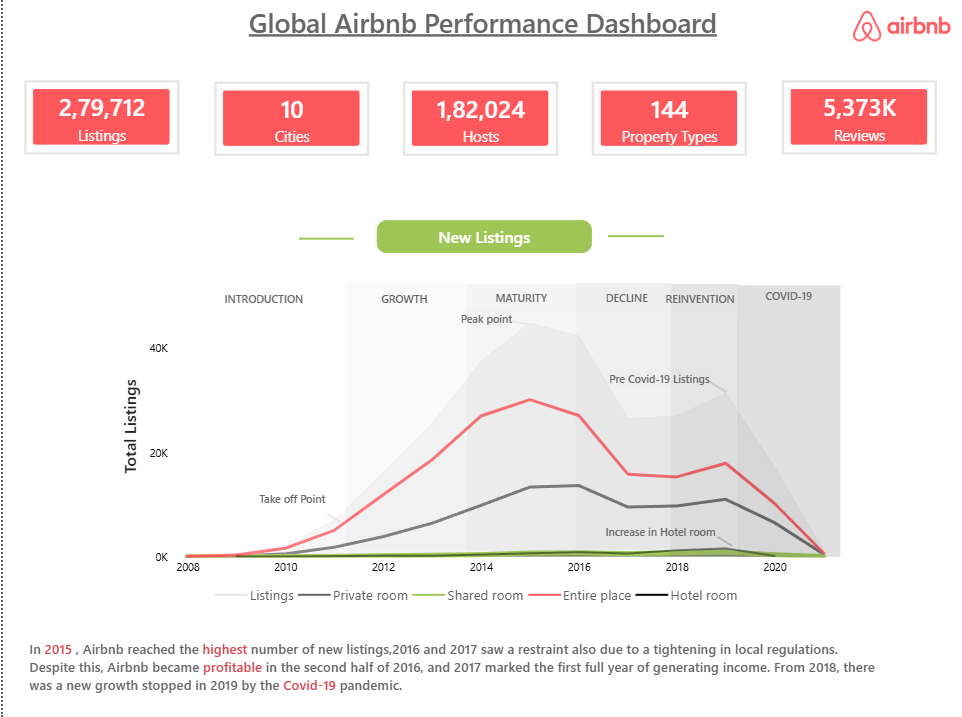

What the dashboard file says about the page in this screenshot:
{"tool":"powerbi","page":{"name":"Overview","canvas":[960,720],"ordinal":0},"visuals":[{"type":"textbox","box":[216.4,0,527.2,53.1],"z":0},{"type":"image","box":[849.4,8.6,97.5,37],"z":1000},{"type":"cardVisual","fields":{"Data":["CountNonNull(Listings.listing_id)"]},"box":[21.3,81,155.3,74.6],"z":2000},{"type":"cardVisual","fields":{"Data":["Count(Listings.city)"]},"box":[210.7,82.2,155,74],"z":3000},{"type":"cardVisual","fields":{"Data":["Count(Listings.host_id)"]},"box":[399.9,82.2,155,74],"z":4000},{"type":"cardVisual","fields":{"Data":["Count(Listings.property_type)"]},"box":[589.1,82.2,155,74],"z":5000},{"type":"cardVisual","fields":{"Data":["Count(Reviews.review_id)"]},"box":[778.2,81,155.3,74.6],"z":6000},{"type":"lineChart","fields":{"Category":["Listings.host_since.Variation.Date Hierarchy.Year"],"Y":["CountNonNull(Listings.listing_id)","Listings.Private room","Listings.Shared room","Listings.Entire place","Listings.Hotel room"]},"box":[114.9,283.7,722.7,331.4],"z":7000},{"type":"textbox","box":[374.2,221.3,215.2,33],"z":8000},{"type":"shape","box":[605.2,162.3,55.8,149.4],"z":9000},{"type":"shape","box":[185.4,283.7,157.7,272.4],"z":10000},{"type":"textbox","box":[211.4,286.2,99.2,23.6],"z":11000},{"type":"shape","box":[342.3,283.7,121.1,268.3],"z":12000},{"type":"textbox","box":[338.2,286.2,125.2,26.8],"z":13000},{"type":"shape","box":[463.4,284.6,108.9,267.5],"z":14000},{"type":"textbox","box":[463.4,283.7,108.9,29.3],"z":15000},{"type":"shape","box":[572,284,95,267],"z":16000},{"type":"textbox","box":[574.8,283.7,97.6,29.3],"z":17000},{"type":"shape","box":[667,285,68,273],"z":18000},{"type":"textbox","box":[657,286,93,29],"z":19000},{"type":"shape","box":[735.3,285.9,102.6,271.8],"z":20000},{"type":"textbox","box":[734,284,104,26],"z":21000},{"type":"shape","box":[310,449,28,132],"z":22000},{"type":"textbox","box":[251,486,91,29],"z":23000},{"type":"shape","box":[509.2,265.8,17.1,115.1],"z":24000},{"type":"textbox","box":[457.2,309.9,52,21.1],"z":25000},{"type":"shape","box":[713.2,480.9,16.4,122.4],"z":26000},{"type":"textbox","box":[600,522.4,114.7,19.9],"z":27000},{"type":"shape","box":[705.1,353.8,19.2,67.9],"z":28000},{"type":"textbox","box":[605.8,369.9,103.8,17.9],"z":29000},{"type":"textbox","box":[21.1,635.8,865,83.7],"z":30000},{"type":"shape","box":[296.1,164.9,54.5,149.4],"z":31000}]}

Visuals, with their boxes in screenshot pixels (x1, y1, x2, y2), scaled from the page's 960x720 canvas onto the 962x717 screenshot:
textbox: 217:0:745:53
image: 851:9:949:45
cardVisual - CountNonNull(Listings.listing_id): 21:81:177:155
cardVisual - Count(Listings.city): 211:82:366:156
cardVisual - Count(Listings.host_id): 401:82:556:156
cardVisual - Count(Listings.property_type): 590:82:746:156
cardVisual - Count(Reviews.review_id): 780:81:935:155
lineChart - Listings.host_since.Variation.Date Hierarchy.Year x CountNonNull(Listings.listing_id): 115:283:839:613
textbox: 375:220:591:253
shape: 606:162:662:310
shape: 186:283:344:554
textbox: 212:285:311:309
shape: 343:283:464:550
textbox: 339:285:464:312
shape: 464:283:573:550
textbox: 464:283:573:312
shape: 573:283:668:549
textbox: 576:283:674:312
shape: 668:284:737:556
textbox: 658:285:752:314
shape: 737:285:840:555
textbox: 736:283:840:309
shape: 311:447:339:579
textbox: 252:484:343:513
shape: 510:265:527:379
textbox: 458:309:510:330
shape: 715:479:731:601
textbox: 601:520:716:540
shape: 707:352:726:420
textbox: 607:368:711:386
textbox: 21:633:888:716
shape: 297:164:351:313
